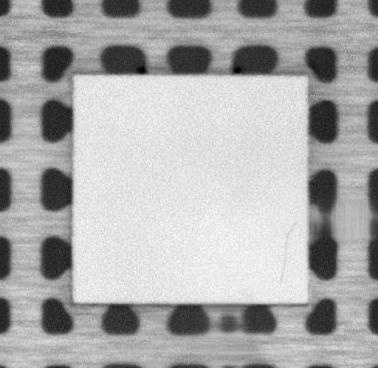DIE_CRACK: (277, 221, 299, 288)
